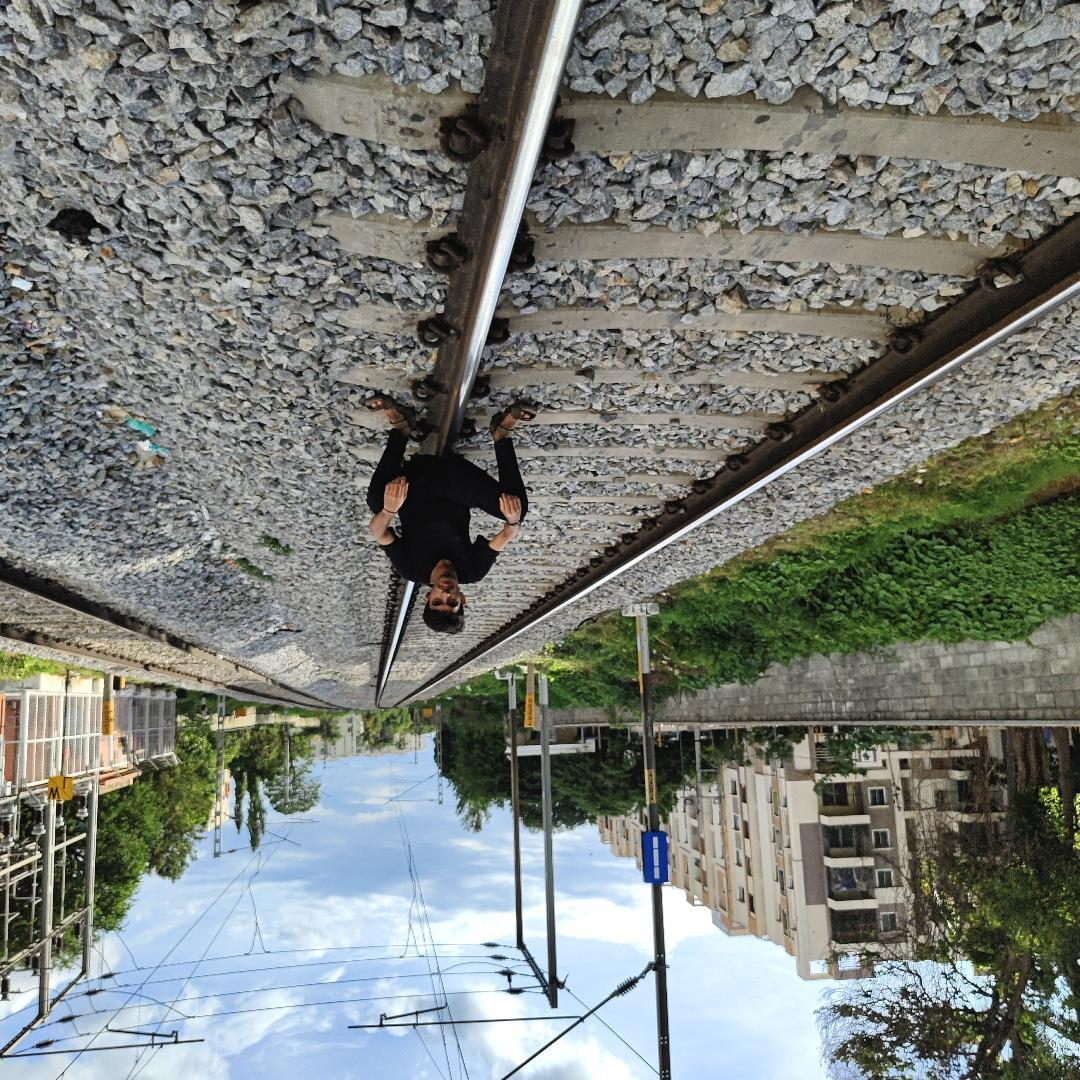sitting: (348, 384, 544, 660)
